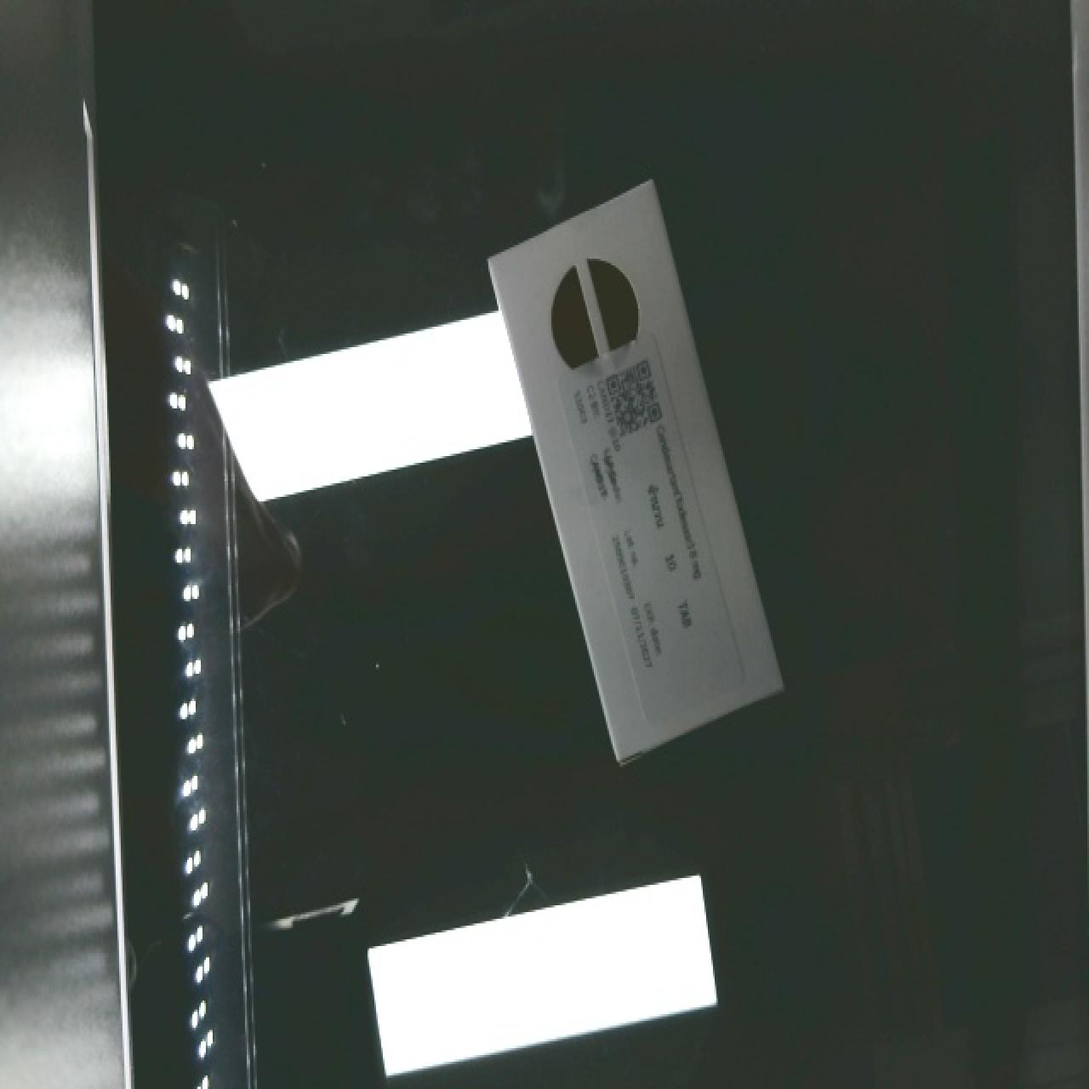qr_code: (577, 333, 692, 460)
